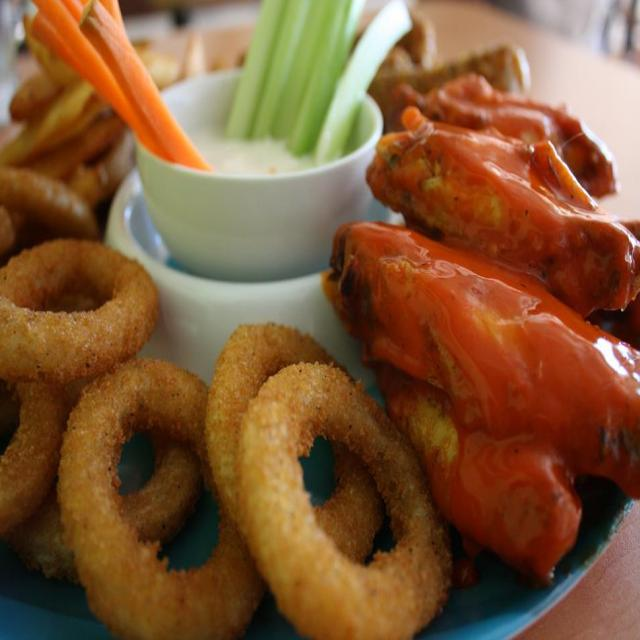Chicken Wings: (340, 68, 640, 568)
French Fries: (1, 22, 208, 238)
Onion Rings: (1, 235, 450, 639)
